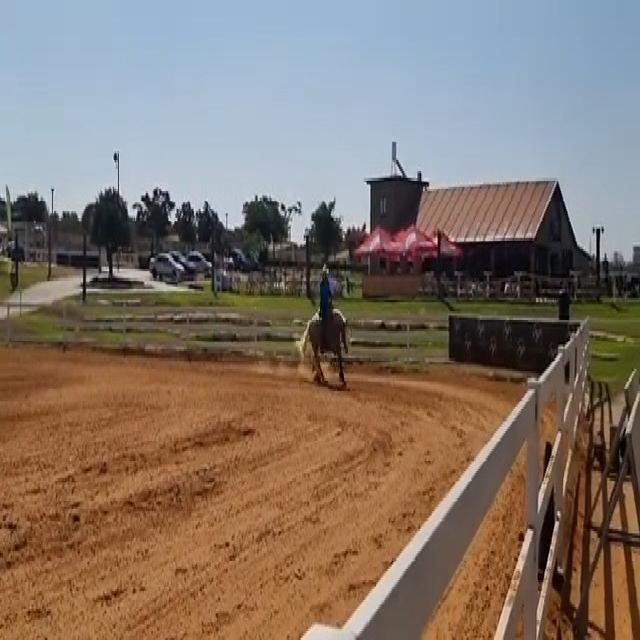horse: (296, 302, 351, 389)
